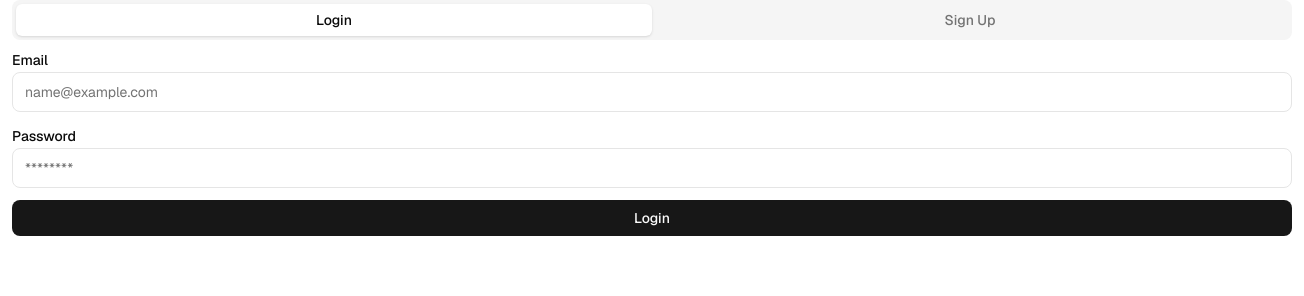
LocalAuthTabs › shows validation errors for invalid login input
# Trigger validation by clicking login with empty fields
Click the button "Login": point(652, 218) left=12, top=200, right=1292, bottom=236
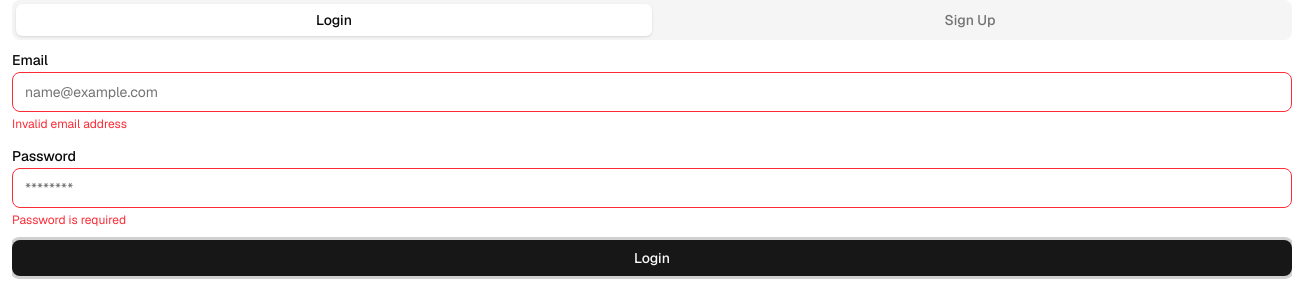
Expected: the text "Invalid email address" is shown, left=12, top=116, right=127, bottom=132
Expected: the text "Password is required" is shown, left=12, top=212, right=126, bottom=228
